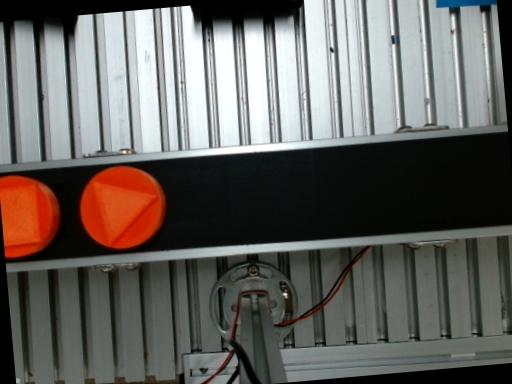Not_Square: (91, 180, 157, 246)
Orange_Waper: (80, 167, 166, 247), (0, 175, 60, 257)
